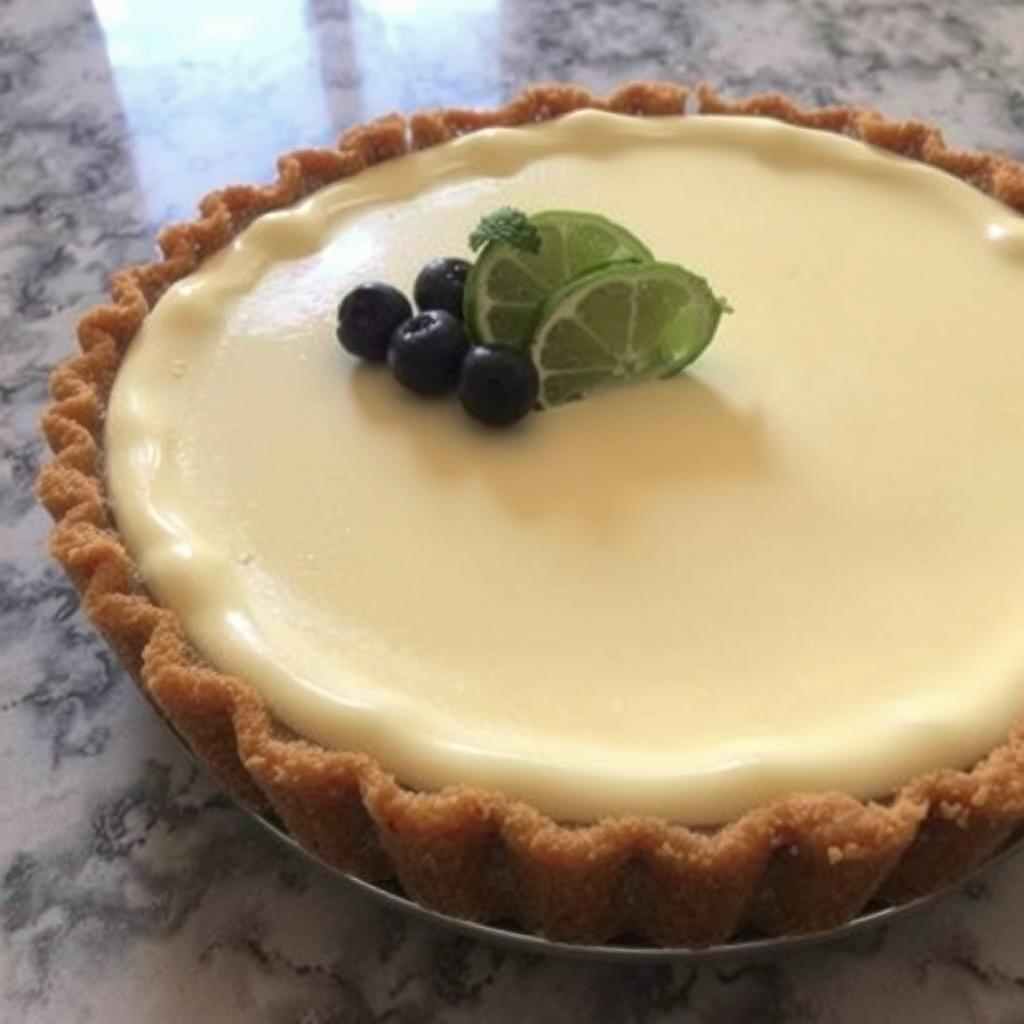pie: (36, 70, 1024, 959)
